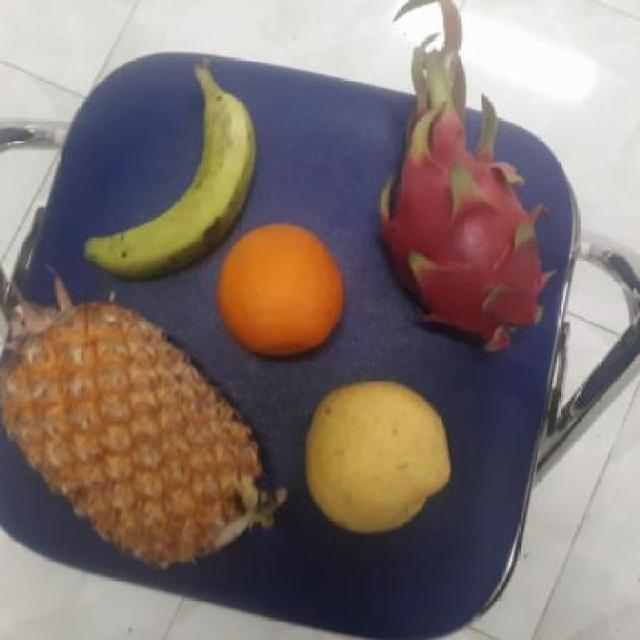banana: (92, 77, 252, 280)
dragon fruit: (370, 111, 570, 352)
guava: (298, 380, 453, 532)
oren: (214, 222, 348, 360)
pineapple: (0, 302, 268, 576)
